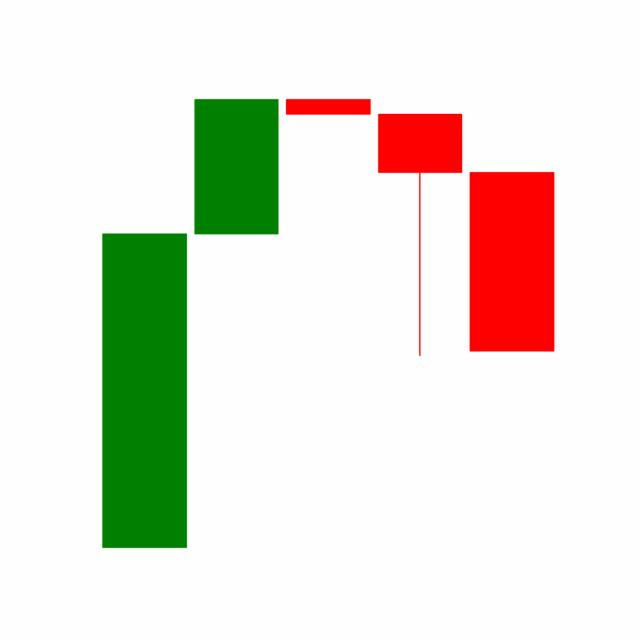Marubozu: (464, 169, 558, 353)
